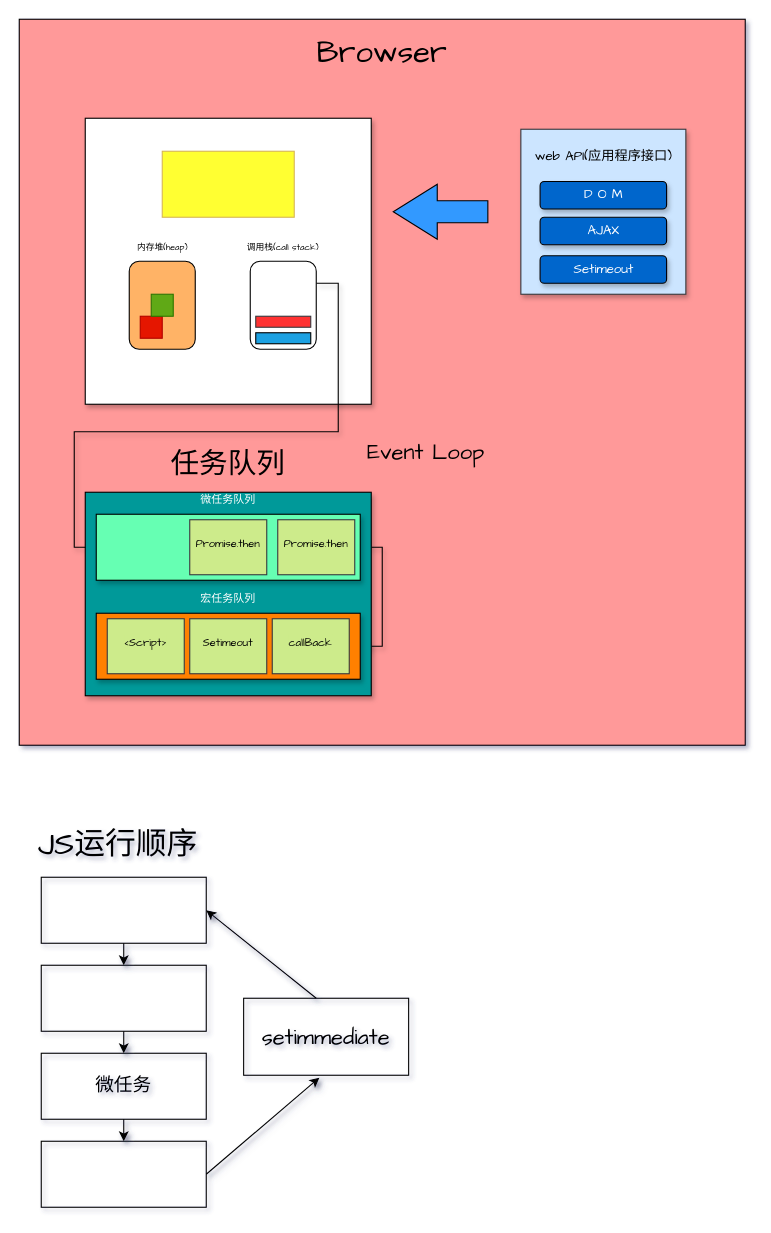
Some shapes in this 771 by 1233 pixel diagram are drawn without their labels. Each missing label, with the centre of its shape:
"JS引擎" belongs at (227,183).
"process.nextTick" belongs at (123,997).
"同步代码" belongs at (123,909).
"宏任务" belongs at (123,1173).
